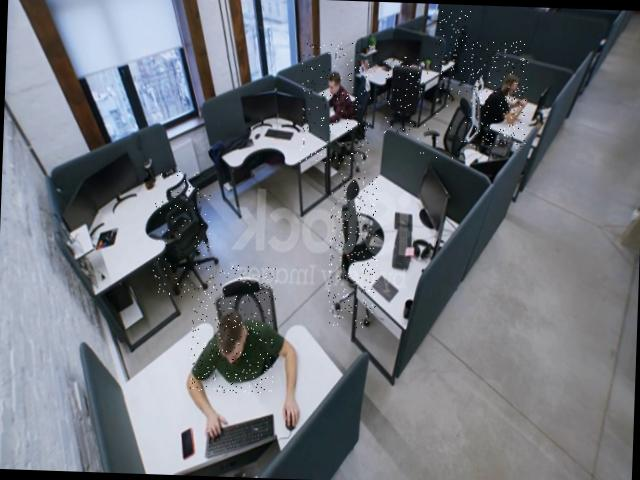empty chair: (326, 170, 381, 328), (152, 170, 213, 298), (413, 92, 476, 162), (434, 10, 471, 107), (384, 57, 428, 136)
occupiedchair: (190, 264, 278, 394), (298, 42, 374, 166), (468, 40, 528, 150)
